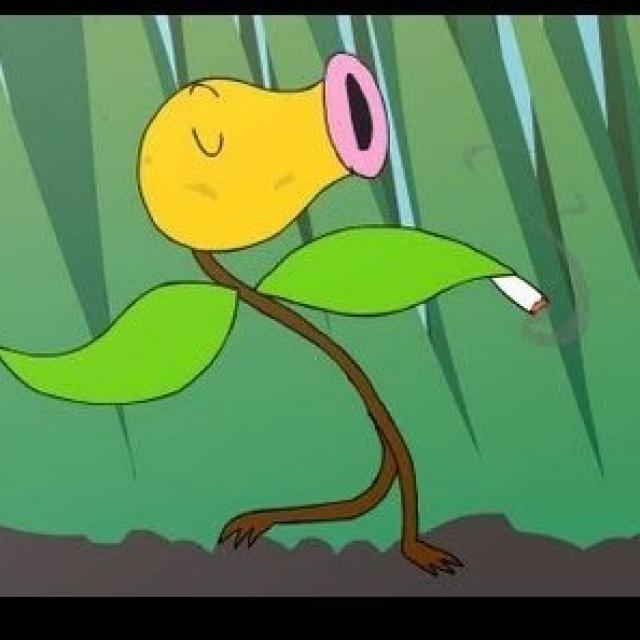Bellsprout: (128, 56, 419, 581)
